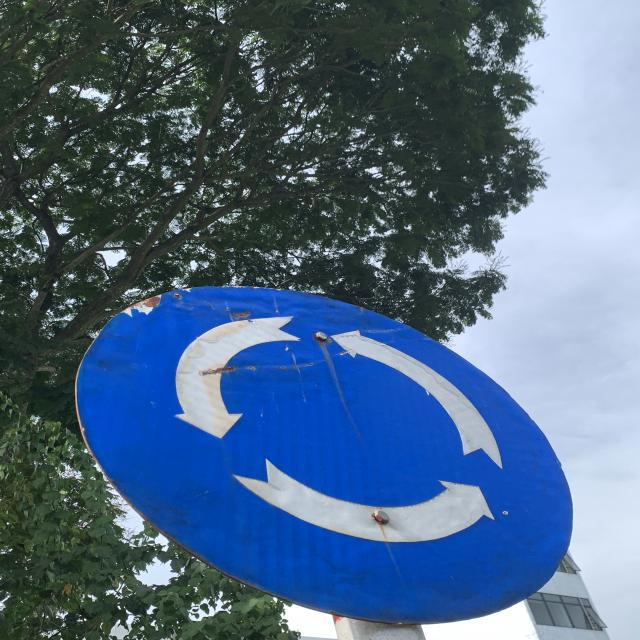Xe_Bus: (71, 281, 583, 624)
